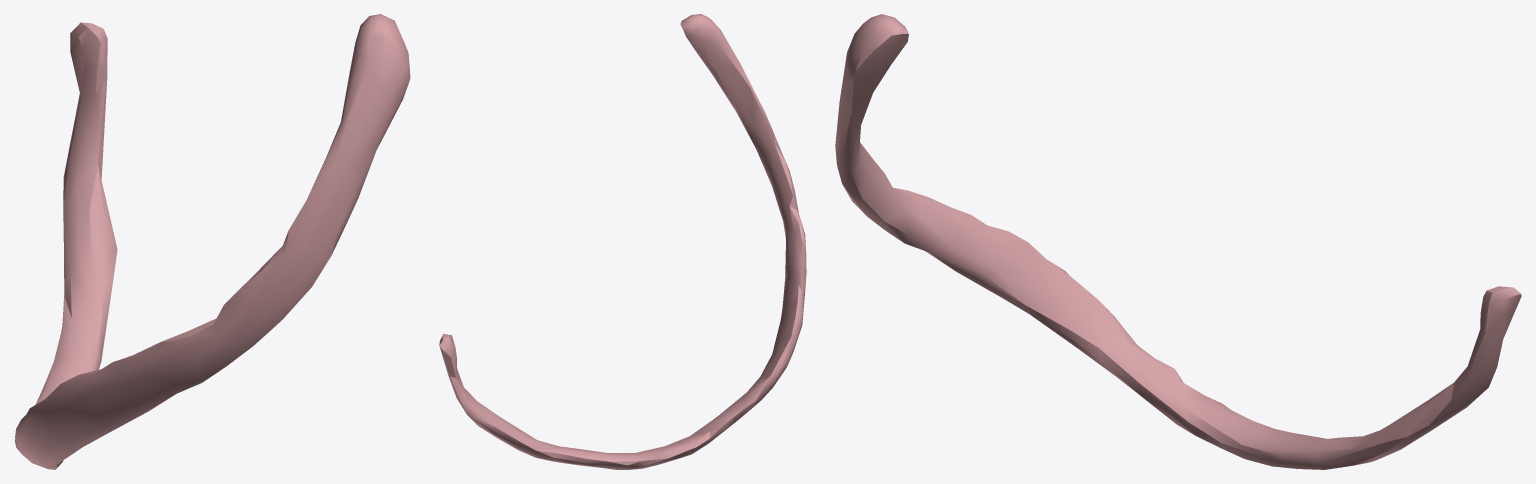
The model's file is fma84619_mm601.glb.
3 renders of one model, left to right at view 1: azimuth 30°, elevation 25°; view 2: azimuth 150°, elevation 25°; view 3: azimuth 270°, elevation 25°, orthographic. The views are drawn at different scales.
Visible parts, largest first — view 1: FMA84619_MM601; view 2: FMA84619_MM601; view 3: FMA84619_MM601.
Part boxes in pixels (x1,y1,x2,y2): FMA84619_MM601: (14,14,410,469); FMA84619_MM601: (439,14,806,469); FMA84619_MM601: (835,14,1521,469).
Size of the model in its own units: 0.0104 by 0.0173 by 0.022.
